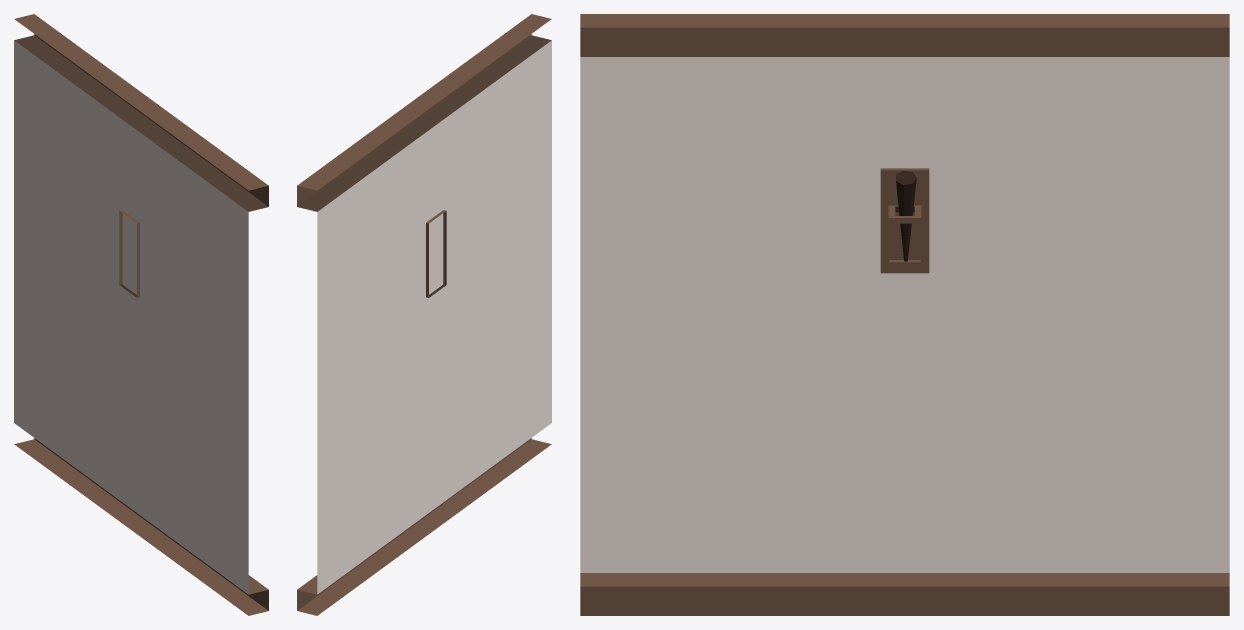
File: basic_wall_010.fbx
3 renders of one model, left to right at view 1: azimuth 30°, elevation 25°; view 2: azimuth 150°, elevation 25°; view 3: azimuth 270°, elevation 25°, orthographic. The views are drawn at different scales.
Parts seen in each view (by area): view 1: Base_Wall.010; view 2: Base_Wall.010; view 3: Base_Wall.010.
Part boxes in pixels (left/top/right/bottom): Base_Wall.010: left=14, top=14, right=268, bottom=615; Base_Wall.010: left=297, top=14, right=551, bottom=615; Base_Wall.010: left=580, top=14, right=1229, bottom=615.
Size of the model in its own units: 200 by 14.48 by 200.
